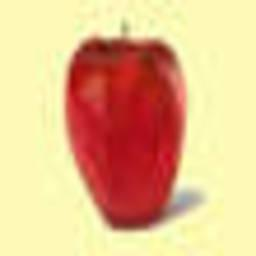apple: (62, 32, 190, 229)
